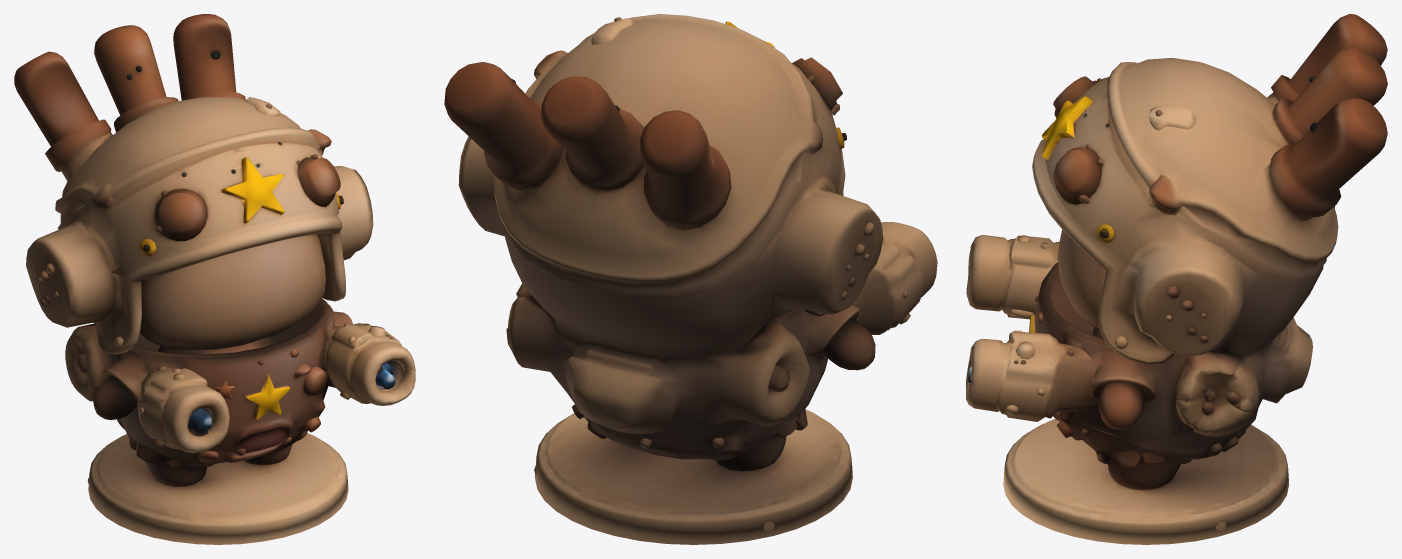
Rendered from filipina-rook.glb.
3 views of the same model, side by side, from view 1: azimuth 30°, elevation 25°; view 2: azimuth 150°, elevation 25°; view 3: azimuth 270°, elevation 25° (orthographic). The views are drawn at different scales.
Visible parts, largest first — view 1: tripo_32049e0b_b48c_4d1f_bd67_ca1bab2bdd85; view 2: tripo_32049e0b_b48c_4d1f_bd67_ca1bab2bdd85; view 3: tripo_32049e0b_b48c_4d1f_bd67_ca1bab2bdd85.
Boxes of the visible parts, x1=… form: tripo_32049e0b_b48c_4d1f_bd67_ca1bab2bdd85: x1=14, y1=14, x2=415, y2=544; tripo_32049e0b_b48c_4d1f_bd67_ca1bab2bdd85: x1=444, y1=14, x2=937, y2=544; tripo_32049e0b_b48c_4d1f_bd67_ca1bab2bdd85: x1=966, y1=14, x2=1387, y2=544.
Bounding box in the file's own units: 0.8384 × 0.9995 × 0.8804.
1 material, 1 textured.
